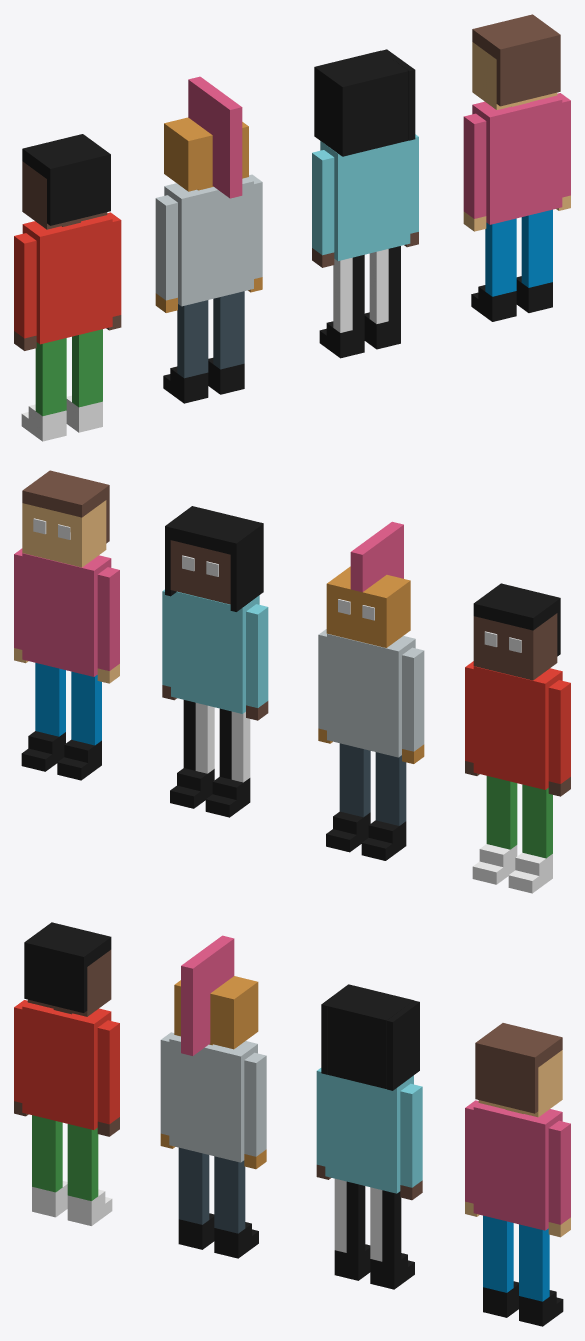
The model's file is scene_aFs6JKLrQk.glb.
3 views of the same model, one above another, from view 1: azimuth 30°, elevation 25°; view 2: azimuth 150°, elevation 25°; view 3: azimuth 330°, elevation 25° (orthographic).
Parts seen in each view (by area): view 1: Node; view 2: Node; view 3: Node.
Part boxes in pixels (<box>): Node: <box>14,14,570,441</box>; Node: <box>14,470,570,893</box>; Node: <box>14,922,570,1326</box>.
Size of the model in its own units: 0.91 by 0.48 by 0.1249.
